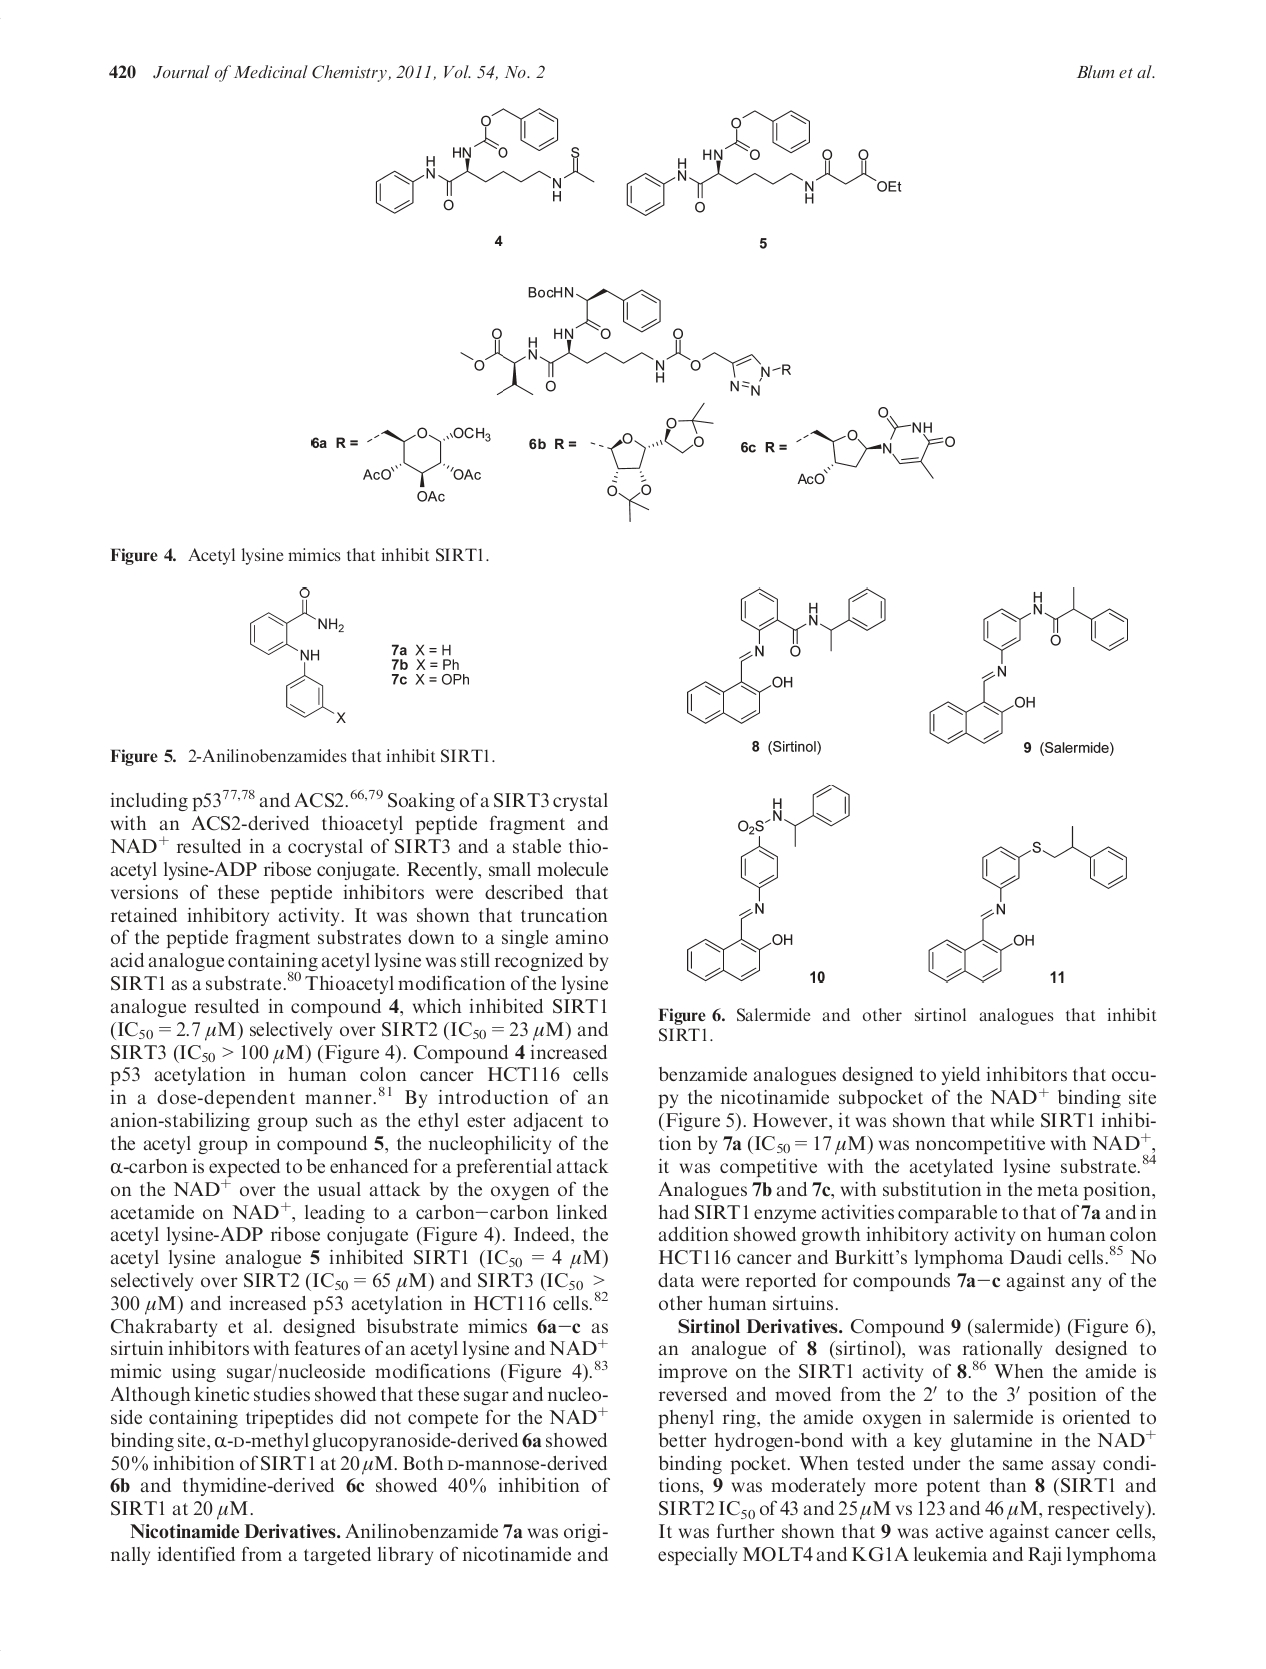exist_molecular: (455, 281, 793, 398), (685, 782, 855, 985), (926, 825, 1132, 985), (926, 586, 1130, 746), (622, 106, 904, 218), (680, 584, 890, 726), (371, 105, 597, 215), (245, 582, 352, 727), (588, 402, 715, 523), (793, 406, 957, 487), (360, 424, 493, 504)
